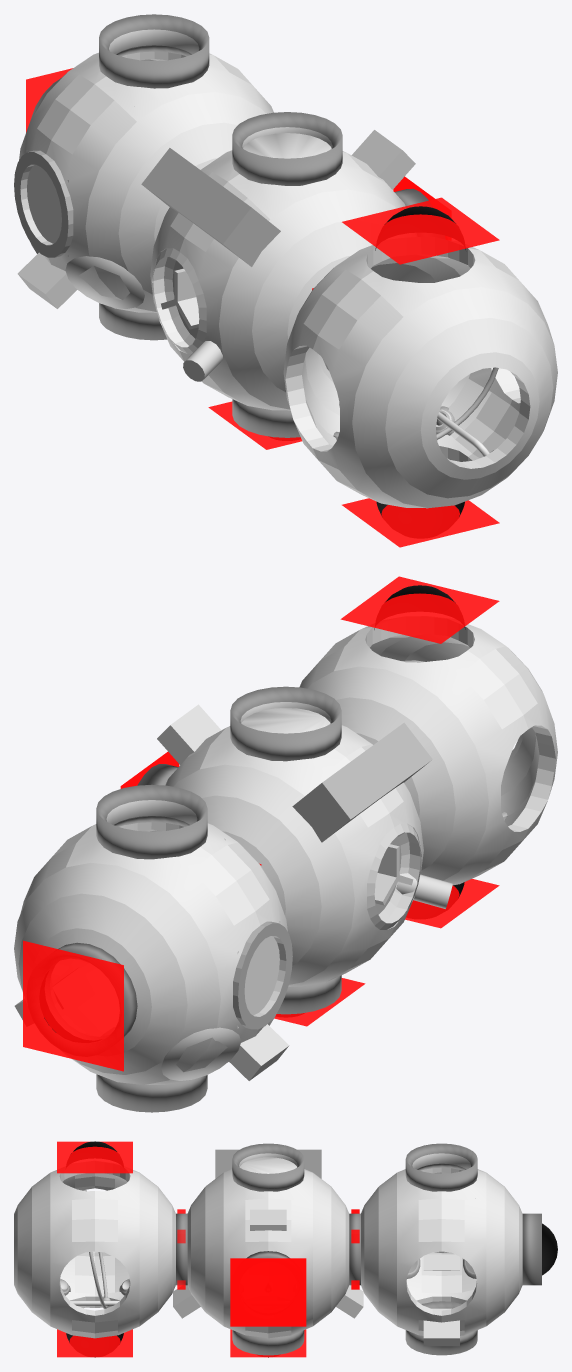
Rendered from source.dae.
The picture shows the model from 3 angles, top to bottom: view 1: azimuth 30°, elevation 25°; view 2: azimuth 150°, elevation 25°; view 3: azimuth 270°, elevation 25°; orthographic projection. The views are drawn at different scales.
Visible parts, largest first — view 1: capsule.radar.mesh (×2), mainMesh, door.seal.dark.mesh (×4), trigger.window (×4), Cube-Null, Cube (×2), Boole.1, Tube, Cylinder (×2), Plane, mainCap1Mesh; view 2: capsule.radar.mesh (×2), mainMesh, trigger.window (×4), door.seal.dark.mesh (×5), Cube-Null, Cube (×2), Boole.1, Cylinder (×2), Tube, Plane, mainCap1Mesh; view 3: capsule.radar.mesh (×2), mainMesh, trigger.window (×5), door.seal.dark.mesh (×7), Cube (×3), message (×2), Cube-Null, mainCap1Mesh, door.window.mesh, interfaceTorus, Cylinder.
Boxes of the visible parts, x1,y1,x2,y2 form: capsule.radar.mesh (×2): (19, 51, 557, 508); mainMesh: (150, 150, 405, 410); door.seal.dark.mesh (×4): (99, 14, 342, 437); trigger.window (×4): (26, 68, 499, 547); Cube-Null: (141, 148, 280, 266); Cube (×2): (17, 130, 415, 308); Boole.1: (152, 248, 206, 353); Tube: (14, 150, 73, 257); Cylinder (×2): (30, 242, 222, 381); Plane: (26, 150, 68, 256); mainCap1Mesh: (243, 133, 331, 158); capsule.radar.mesh (×2): (14, 624, 557, 1084); mainMesh: (165, 725, 423, 986); trigger.window (×4): (23, 576, 499, 1071); door.seal.dark.mesh (×5): (58, 686, 341, 1112); Cube-Null: (292, 722, 432, 842); Cube (×2): (157, 704, 289, 1080); Boole.1: (367, 823, 421, 929); Cylinder (×2): (161, 873, 452, 1080); Tube: (233, 921, 292, 1029); Plane: (237, 921, 280, 1028); mainCap1Mesh: (241, 708, 330, 733); capsule.radar.mesh (×2): (14, 1167, 522, 1338); mainMesh: (187, 1169, 349, 1338); trigger.window (×5): (57, 1141, 306, 1357); door.seal.dark.mesh (×7): (176, 1143, 541, 1355); Cube (×3): (250, 1209, 459, 1346); message (×2): (173, 1285, 363, 1318); Cube-Null: (215, 1149, 321, 1178); mainCap1Mesh: (239, 1157, 296, 1173); door.window.mesh: (542, 1223, 557, 1275); interfaceTorus: (83, 1190, 107, 1308); Cylinder: (407, 1259, 476, 1278).
Size of the model in its own units: 1249 by 1341 by 3138.
4 materials, 1 textured.
